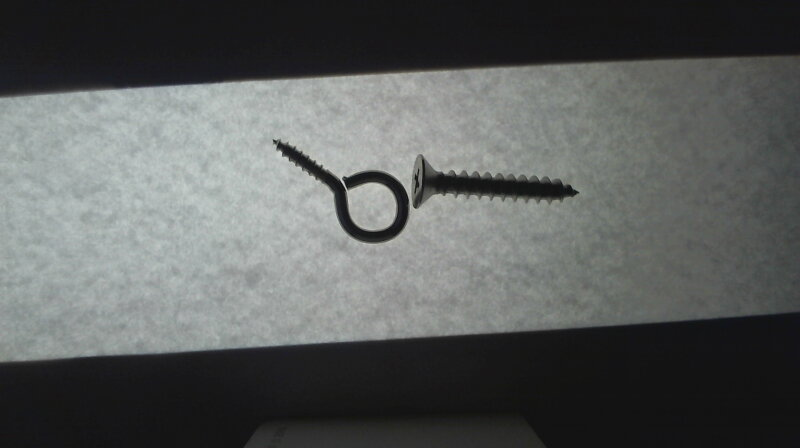O001: (271, 135, 411, 241)
S001: (410, 152, 581, 212)
